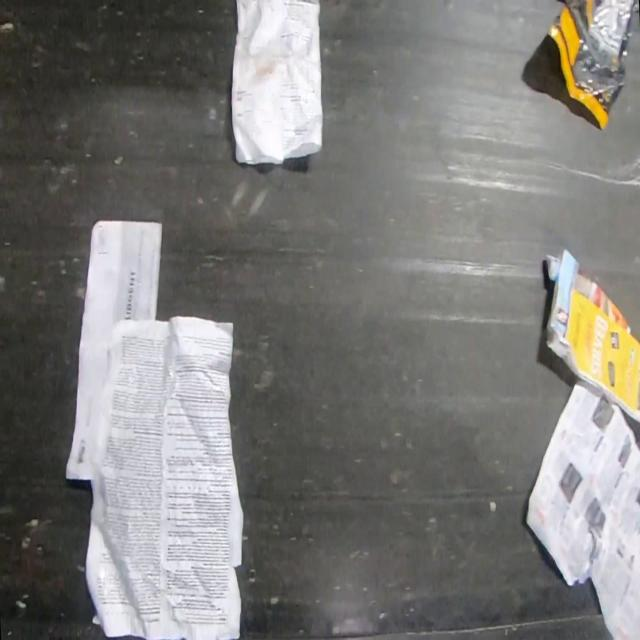cardboard: (544, 244, 640, 425)
soft_plastic: (545, 0, 640, 132)
